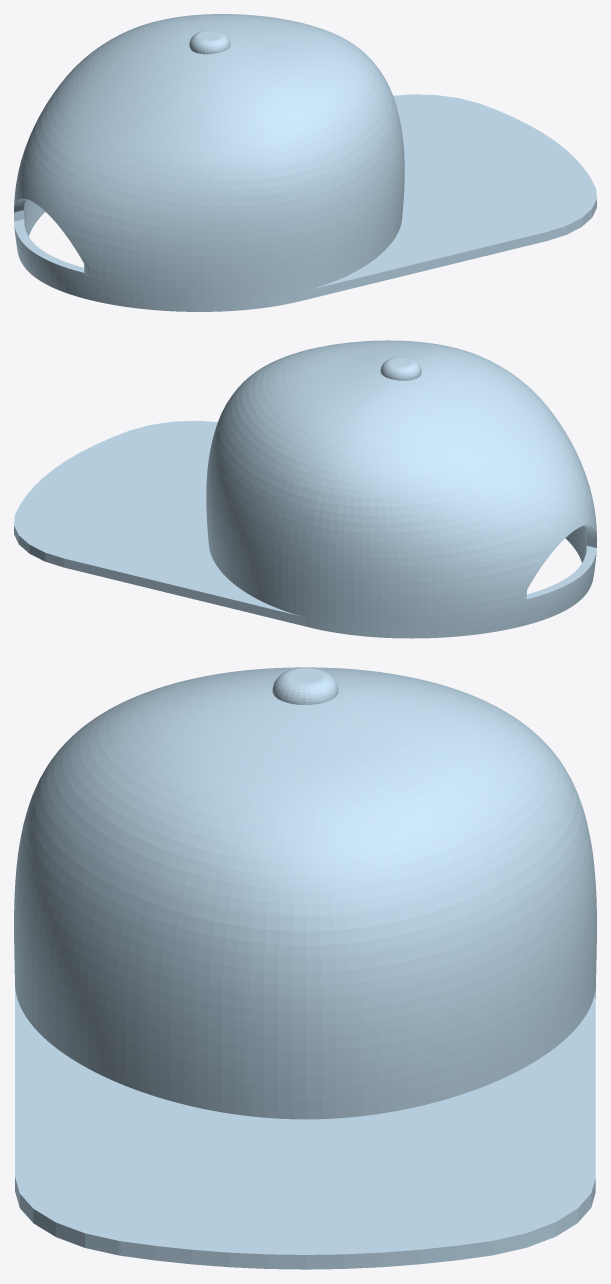
Rendered from BaseballCap.gltf.
3 views of the same model, one above another, from view 1: azimuth 30°, elevation 25°; view 2: azimuth 150°, elevation 25°; view 3: azimuth 270°, elevation 25° (orthographic). The views are drawn at different scales.
Bounding box in the file's own units: 60.35 × 21.99 × 36.14.
